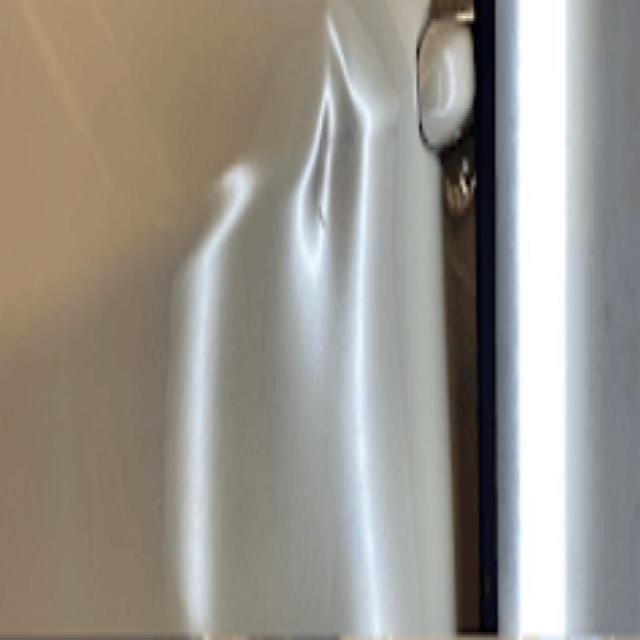dents: (148, 11, 403, 640)
